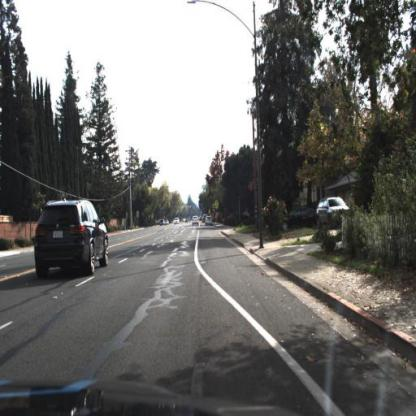car: (30, 192, 112, 280), (314, 195, 354, 229), (315, 196, 351, 230), (283, 205, 319, 235), (191, 214, 203, 229), (204, 215, 216, 228)
